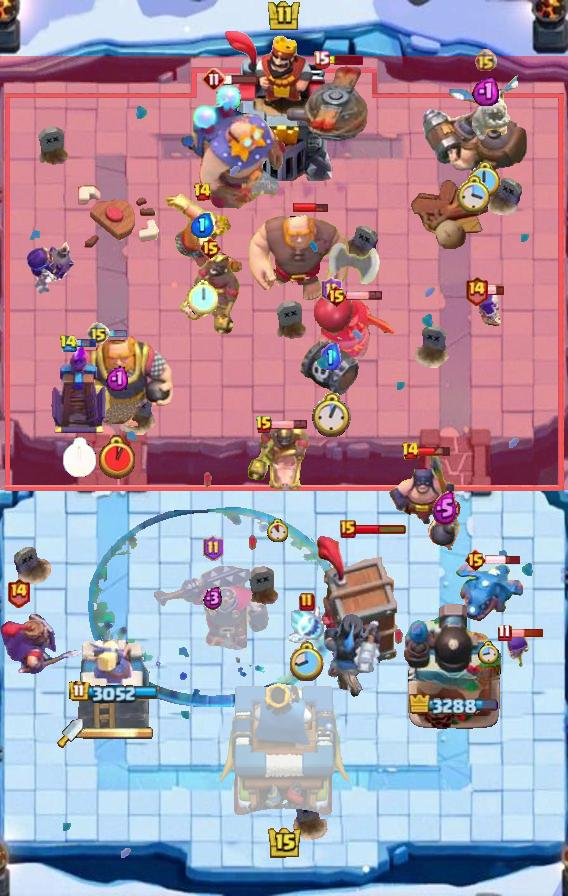balloon: (244, 212, 352, 304)
bar: (77, 637, 151, 731)
bat: (289, 604, 325, 644)
dark-prince: (277, 64, 395, 150)
dart-goblin: (315, 534, 399, 672)
electro-spirit: (432, 491, 458, 525), (473, 74, 500, 105), (191, 213, 214, 238), (106, 365, 128, 391), (321, 342, 341, 369), (203, 586, 223, 610)
elixir: (312, 394, 351, 439), (99, 435, 135, 479), (457, 174, 493, 215), (62, 438, 98, 479), (290, 641, 325, 683), (471, 163, 501, 197), (187, 279, 217, 313), (477, 641, 499, 664), (268, 518, 289, 542)
elixir-golem-big: (0, 612, 88, 678)
emote: (353, 523, 406, 535), (293, 202, 329, 215), (485, 554, 523, 566), (223, 73, 259, 85), (417, 445, 452, 457), (345, 290, 383, 301), (271, 418, 308, 429), (327, 55, 363, 65), (508, 628, 543, 638), (75, 339, 97, 350), (486, 285, 505, 296), (108, 329, 128, 339)
freeze: (178, 251, 242, 337), (243, 421, 311, 495)
giant-skeleton: (59, 330, 175, 430)
goblin: (502, 629, 532, 669), (477, 290, 503, 326)
goblin-ball: (25, 241, 77, 297)
goblin-hut: (162, 194, 242, 274)
graveyard: (453, 559, 523, 623)
ice-golem: (427, 496, 463, 554)
ice-spirit-evolution-symbol: (49, 343, 109, 435)
inferno-dragon: (323, 611, 383, 701)
inferno-tower: (154, 562, 272, 650)
king-tower: (219, 678, 349, 826), (223, 31, 345, 181)
king-tower-bar: (83, 726, 153, 740)
little-prince: (178, 84, 286, 210)
mini-pekka: (447, 75, 523, 147)
monk: (388, 449, 456, 527)
pad_0: (86, 505, 340, 707)
royal-giant: (328, 243, 380, 303)
royal-hog: (311, 296, 395, 372)
royal-recruit-evolution: (298, 291, 364, 395)
selected: (410, 694, 499, 718), (69, 680, 159, 703)
text: (463, 275, 488, 306), (5, 576, 30, 607), (202, 67, 226, 91), (86, 322, 110, 346), (321, 277, 343, 303), (198, 236, 221, 260), (324, 284, 347, 308), (464, 548, 487, 572), (204, 535, 225, 561), (475, 48, 498, 71), (400, 441, 420, 461), (193, 182, 212, 202), (58, 335, 77, 354), (255, 415, 273, 435), (313, 50, 330, 69), (299, 592, 315, 612), (340, 520, 356, 538), (497, 623, 511, 641)
tower-bar: (403, 601, 503, 731)
wizard: (419, 106, 531, 176)
